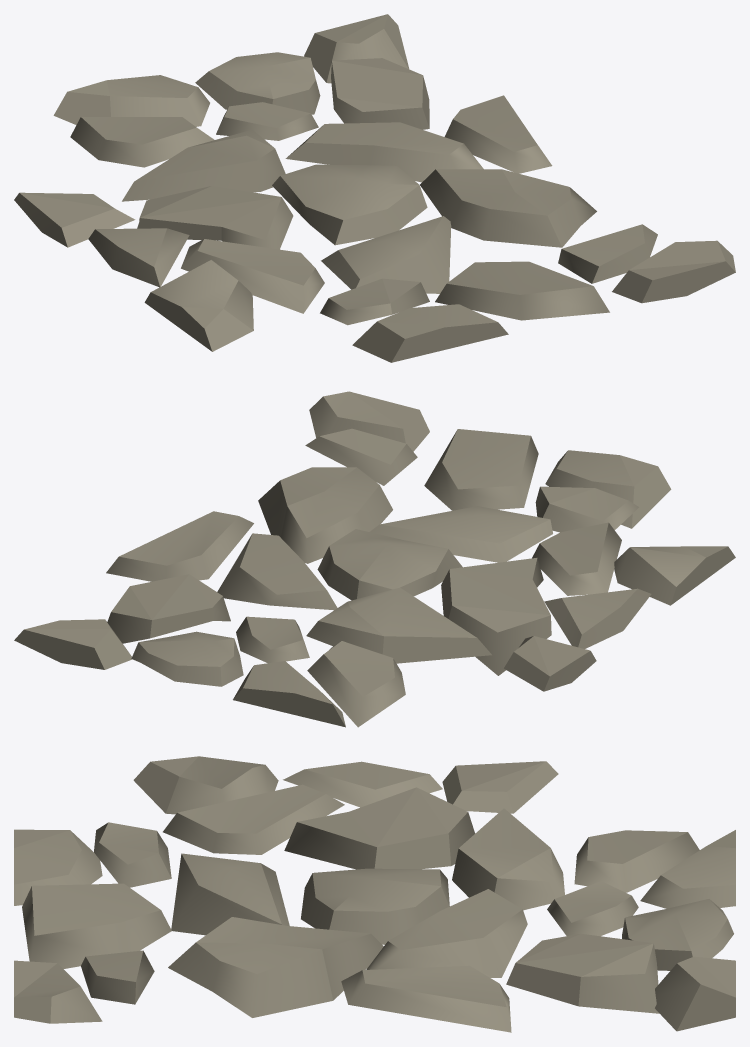
Rendered from Stone_Path_Crossroads_L.glb.
3 views of the same model, one above another, from view 1: azimuth 30°, elevation 25°; view 2: azimuth 150°, elevation 25°; view 3: azimuth 270°, elevation 25° (orthographic). The views are drawn at different scales.
Visible parts, largest first — view 1: Stone_Path_Crossroads_L; view 2: Stone_Path_Crossroads_L; view 3: Stone_Path_Crossroads_L.
Boxes of the visible parts, x1,y1,x2,y2 form: Stone_Path_Crossroads_L: (14,14,735,362); Stone_Path_Crossroads_L: (14,391,735,727); Stone_Path_Crossroads_L: (14,756,735,1032).
Bounding box in the file's own units: 1.21 × 0.1509 × 1.47.
